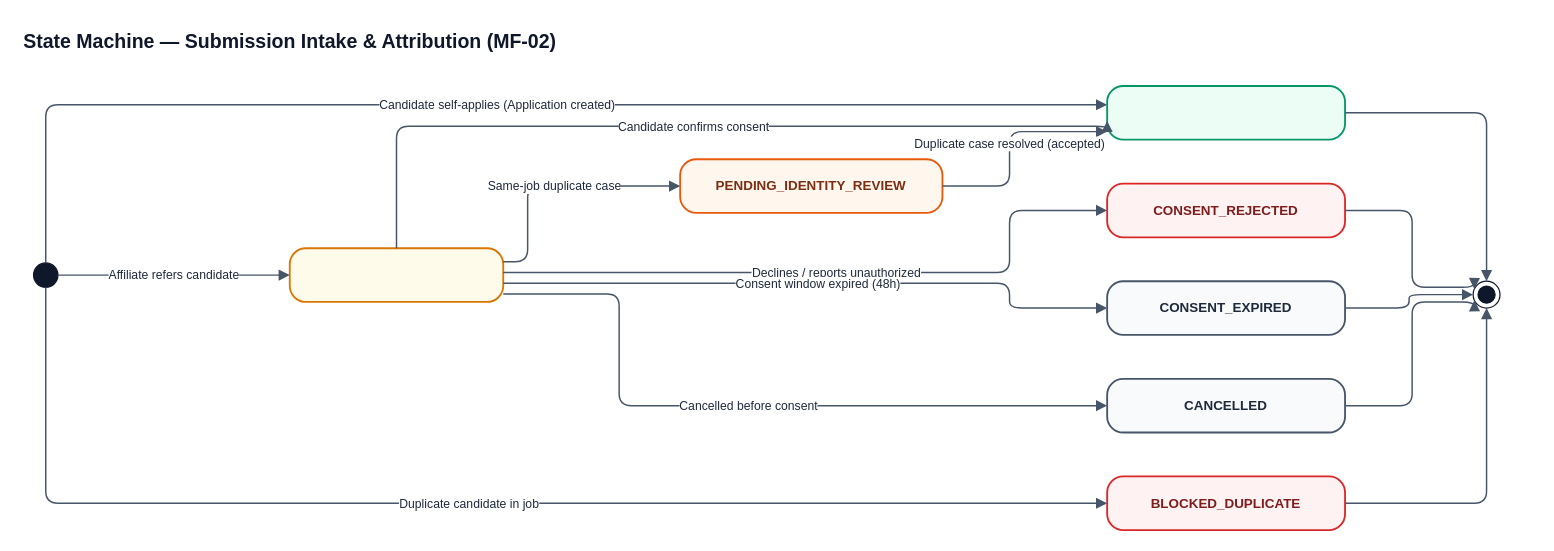
Image size: 1554x551. Some labels were removed from this diagram. Each missing label, with the box of its shape:
ACCEPTED: (1106, 85, 1345, 140)
PENDING_CONSENT: (288, 247, 504, 302)
